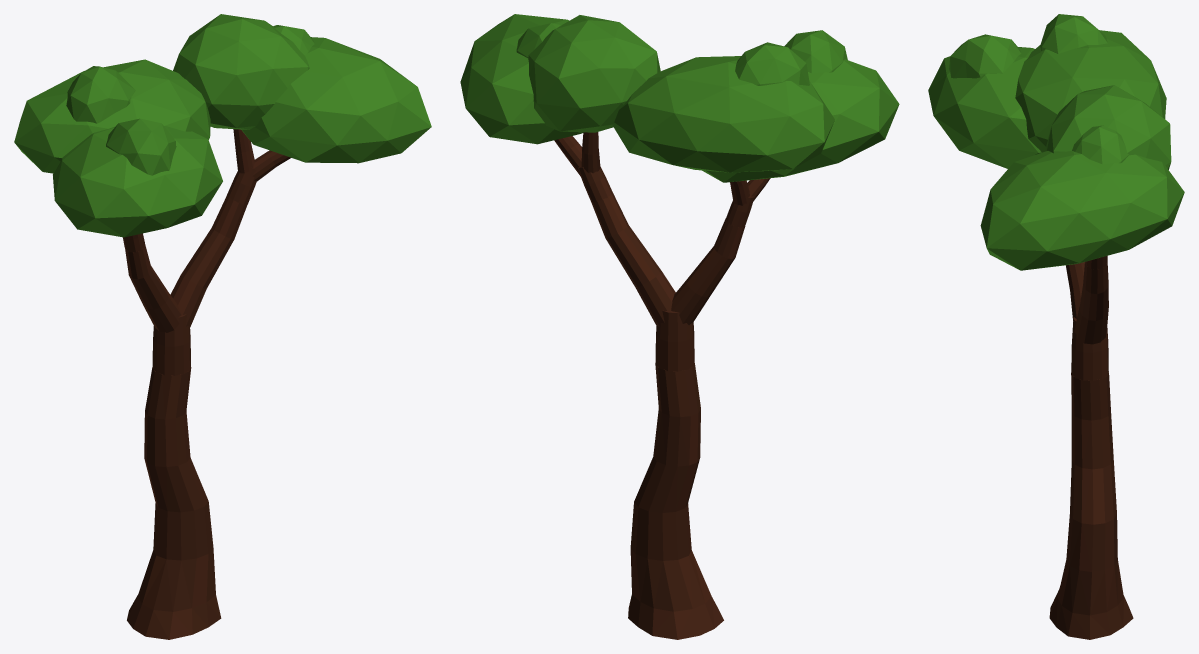
Rendered from GR_Tree_Broad_LOD0.fbx.
The picture shows the model from 3 angles, left to right: view 1: azimuth 30°, elevation 25°; view 2: azimuth 150°, elevation 25°; view 3: azimuth 270°, elevation 25°; orthographic projection. The views are drawn at different scales.
Visible parts, largest first — view 1: GR_Tree_Broad_LOD0; view 2: GR_Tree_Broad_LOD0; view 3: GR_Tree_Broad_LOD0.
Part boxes in pixels (x1,y1,x2,y2): GR_Tree_Broad_LOD0: [14, 14, 431, 639]; GR_Tree_Broad_LOD0: [460, 14, 899, 639]; GR_Tree_Broad_LOD0: [928, 14, 1184, 639].
Size of the model in its own units: 3.13 by 4.59 by 1.89.
2 materials, 2 textured.
